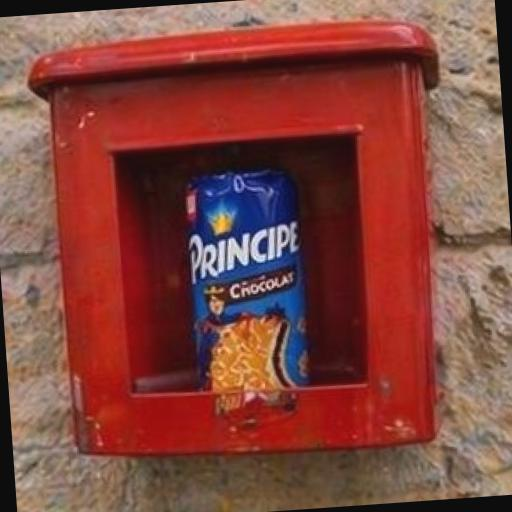prince: (138, 117, 380, 503)
